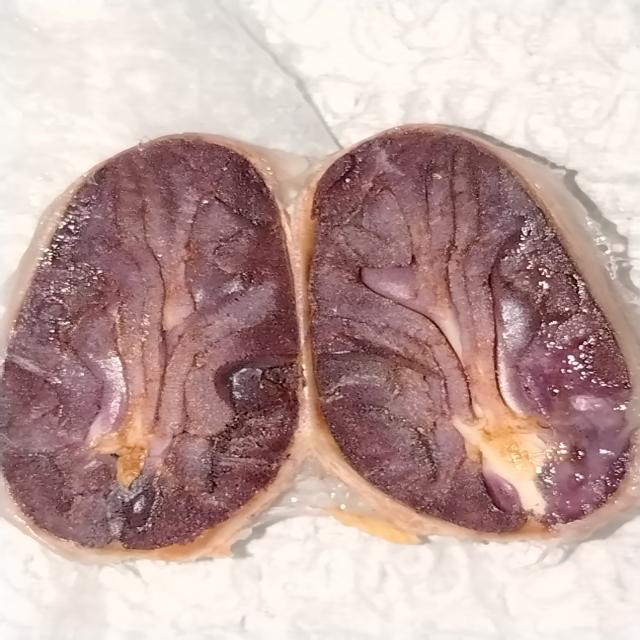Forastero: (309, 128, 636, 528)
